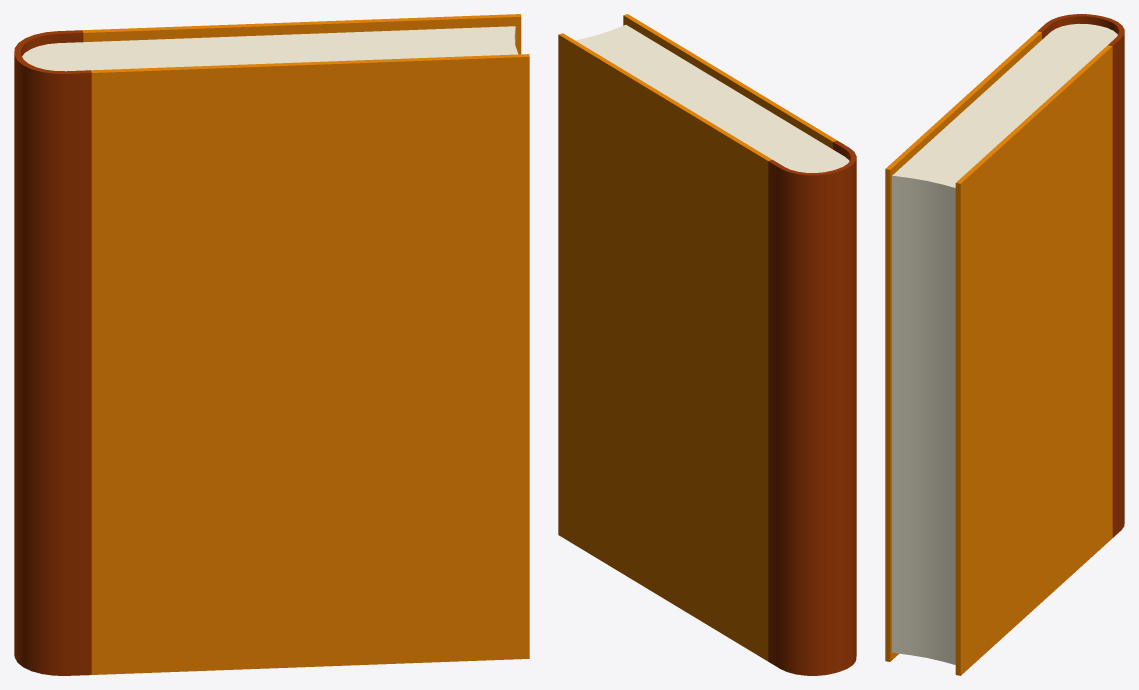
Rendered from orange_book.gltf.
3 renders of one model, left to right at view 1: azimuth 30°, elevation 25°; view 2: azimuth 150°, elevation 25°; view 3: azimuth 270°, elevation 25°, orthographic. The views are drawn at different scales.
Parts seen in each view (by area): view 1: Cube.949; view 2: Cube.949; view 3: Cube.949.
Boxes of the visible parts, <box> form: Cube.949: <box>14,14,529,675</box>; Cube.949: <box>558,14,856,675</box>; Cube.949: <box>885,14,1124,675</box>.
Size of the model in its own units: 1.55 by 2.1 by 0.9263.
Materials: 1 (1 with a texture image).
